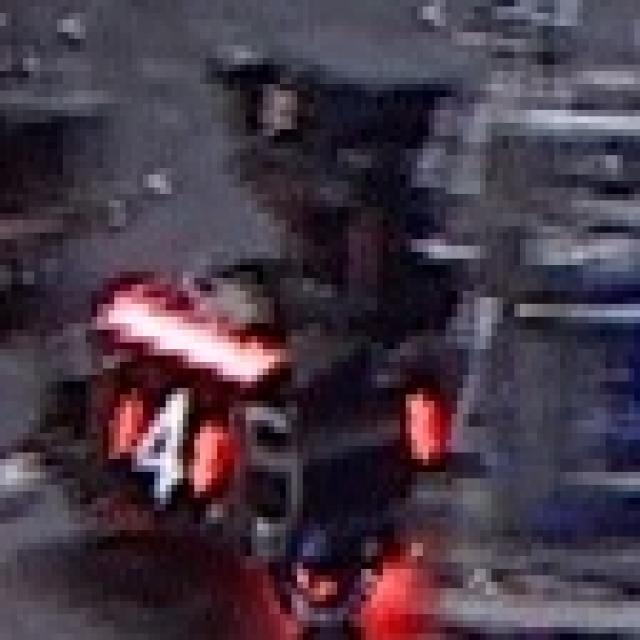R4: (80, 369, 234, 517)
